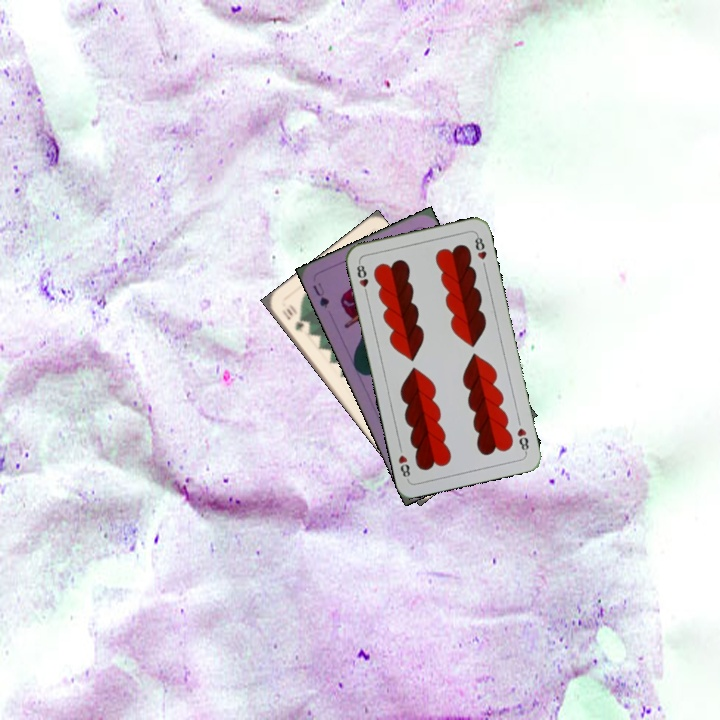G10: (277, 304, 306, 335)
GU: (309, 278, 332, 311)
H8: (353, 258, 371, 298), (513, 424, 531, 456)
